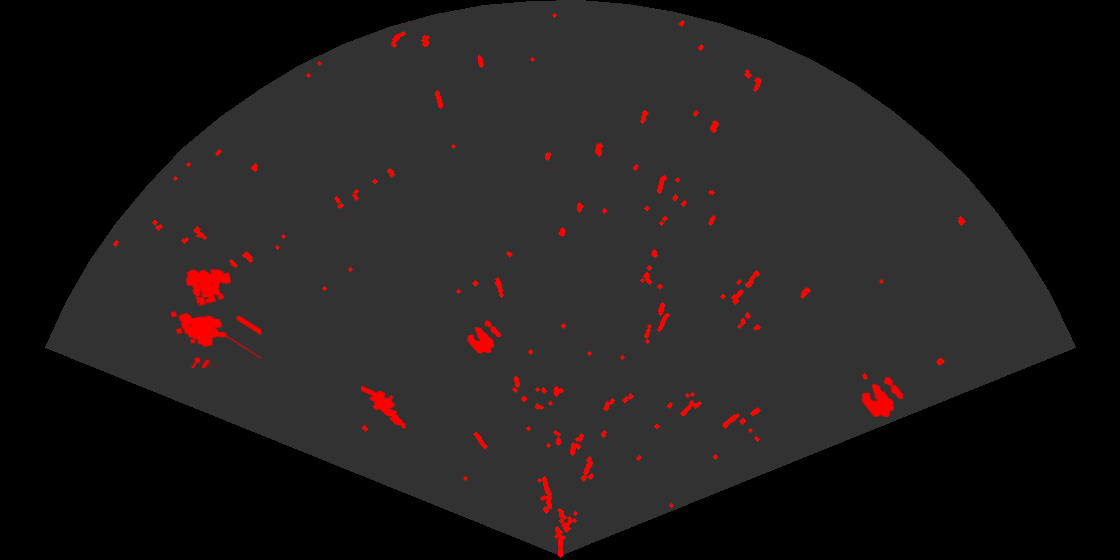ball: (859, 375, 905, 419), (466, 319, 503, 355)
cage: (169, 267, 261, 368)
frogman: (361, 384, 415, 432)
